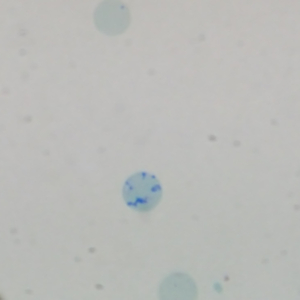aggregate reticulocyte: (121, 170, 164, 212)
punctate reticulocyte: (90, 1, 134, 38)
